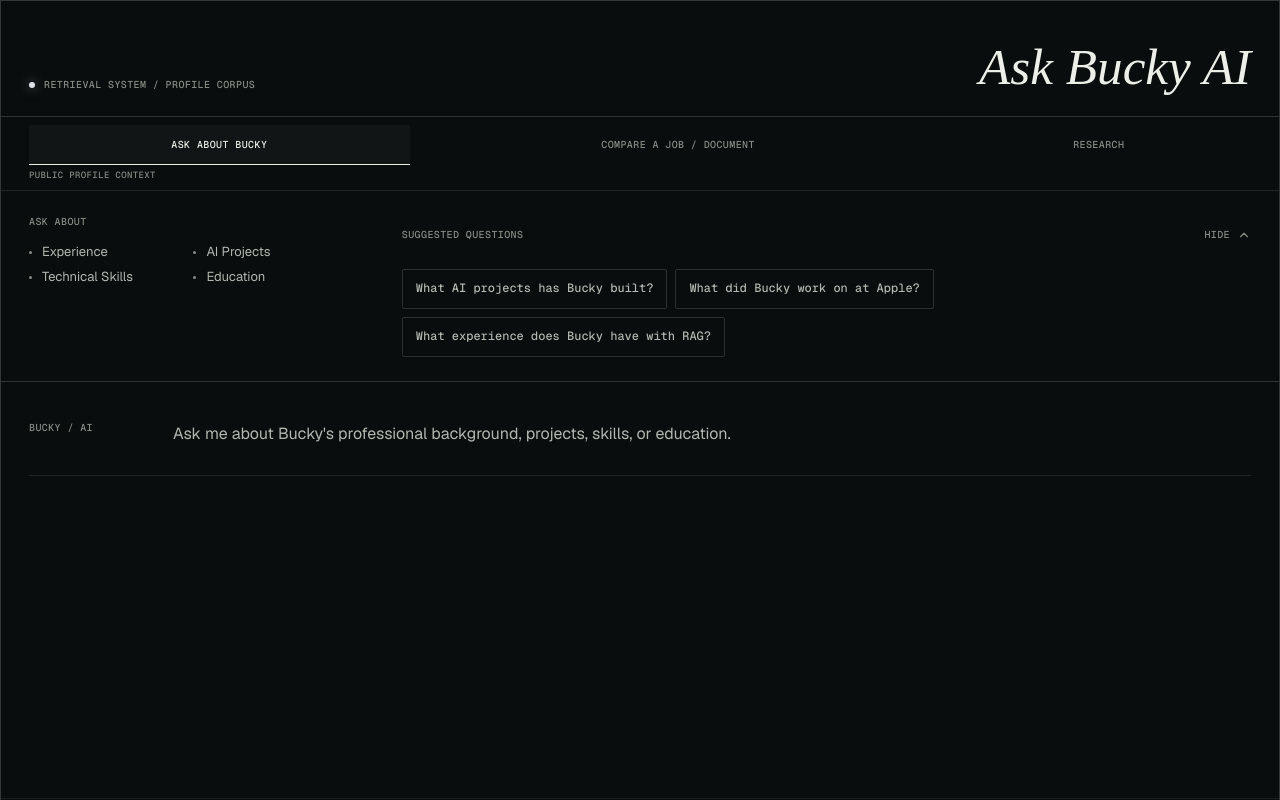
it: routes Research to the research backend and renders streamed results
The image size is (1280, 800).
Step 1. Click the button "Research" → (1099, 145), box [946,125,1251,165]
(page scrolled)
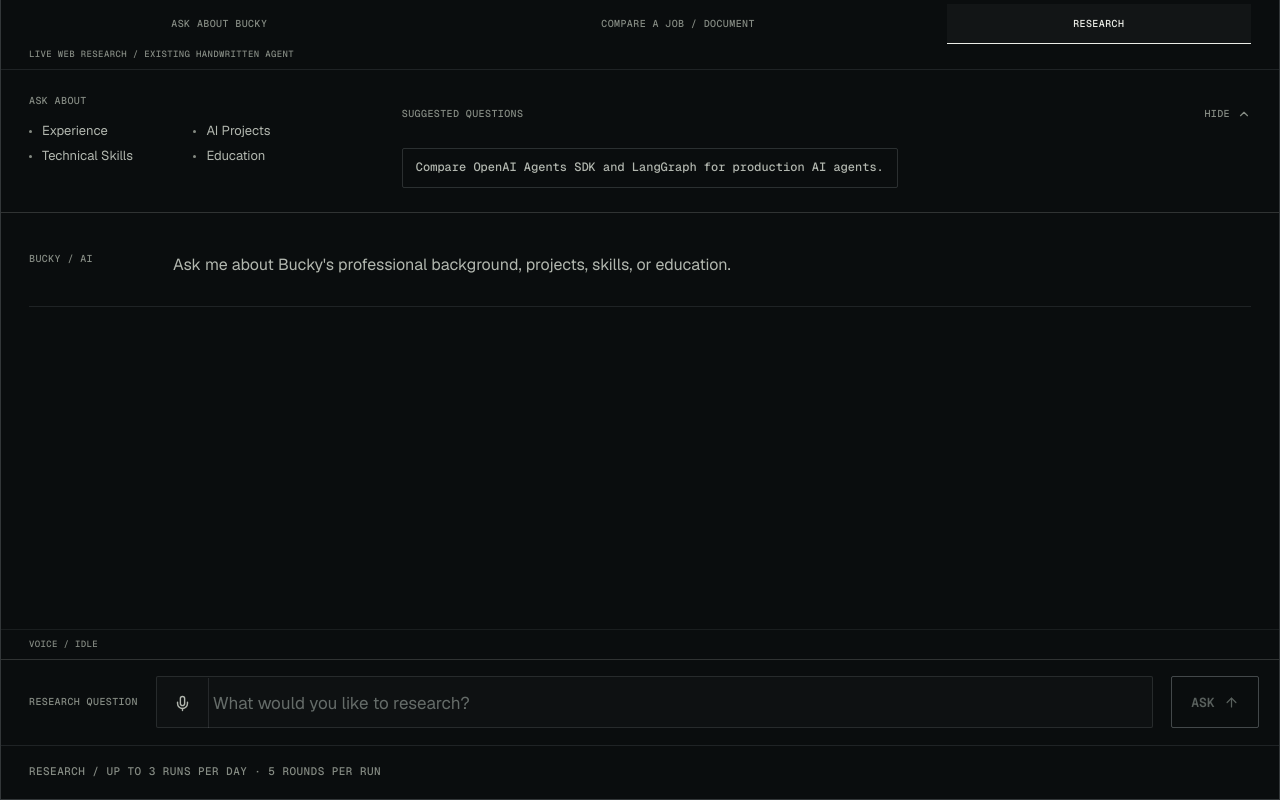
Step 2. Type "Compare SDKs" into the field labelled "Research question" → (680, 703), box [209,677,1152,729]
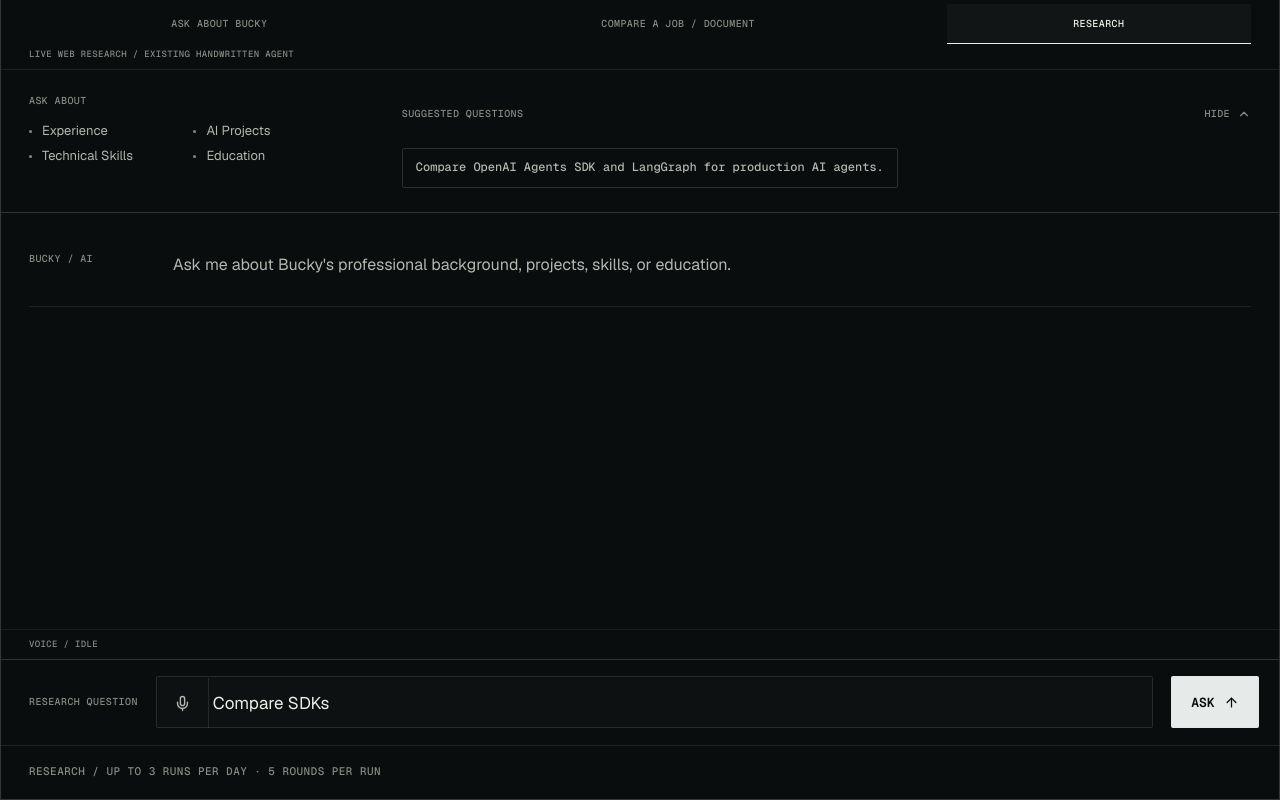
Step 3. Click the button with aria-label "Send question to Ask Bucky AI" → (1215, 702), box [1171,676,1259,728]
(page scrolled)
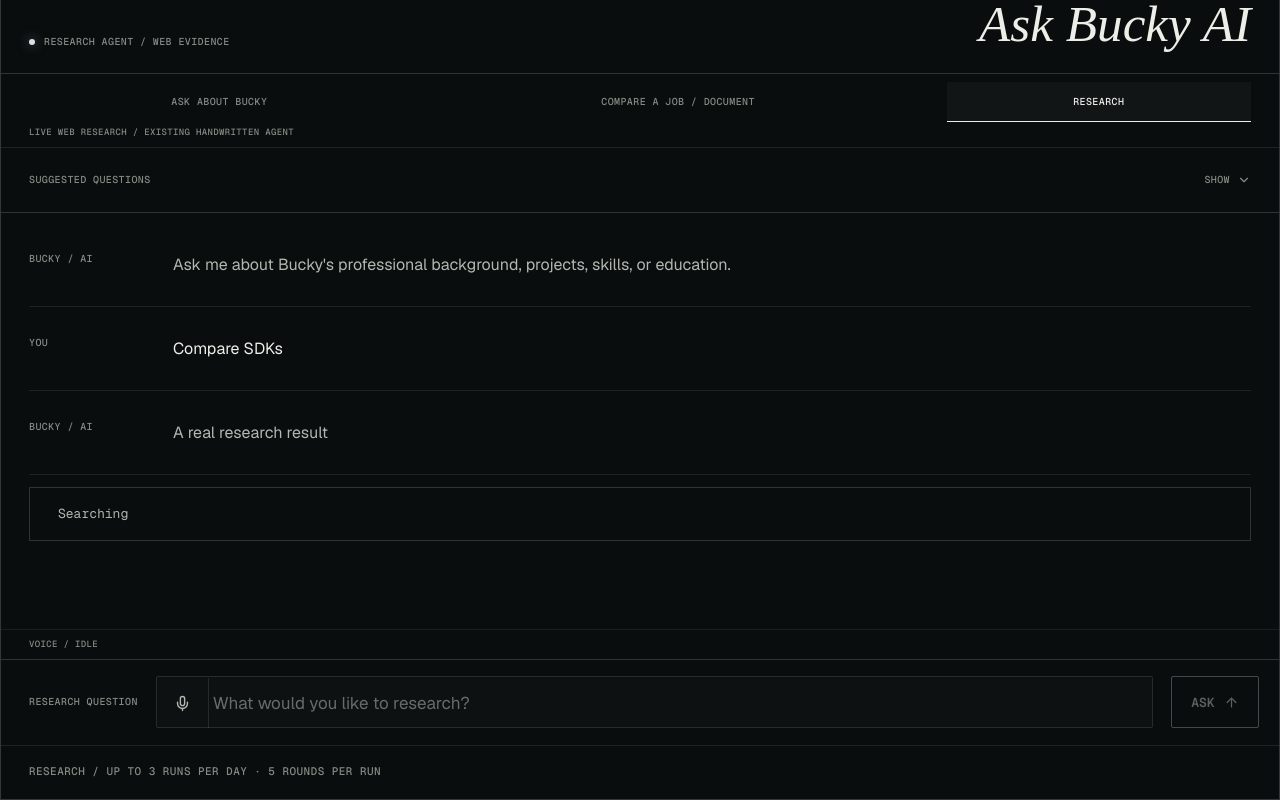
Expected: the text "A real research result" is shown, [173,422,328,443]
Expected: the list item "Searching" is shown, [58,505,128,522]
